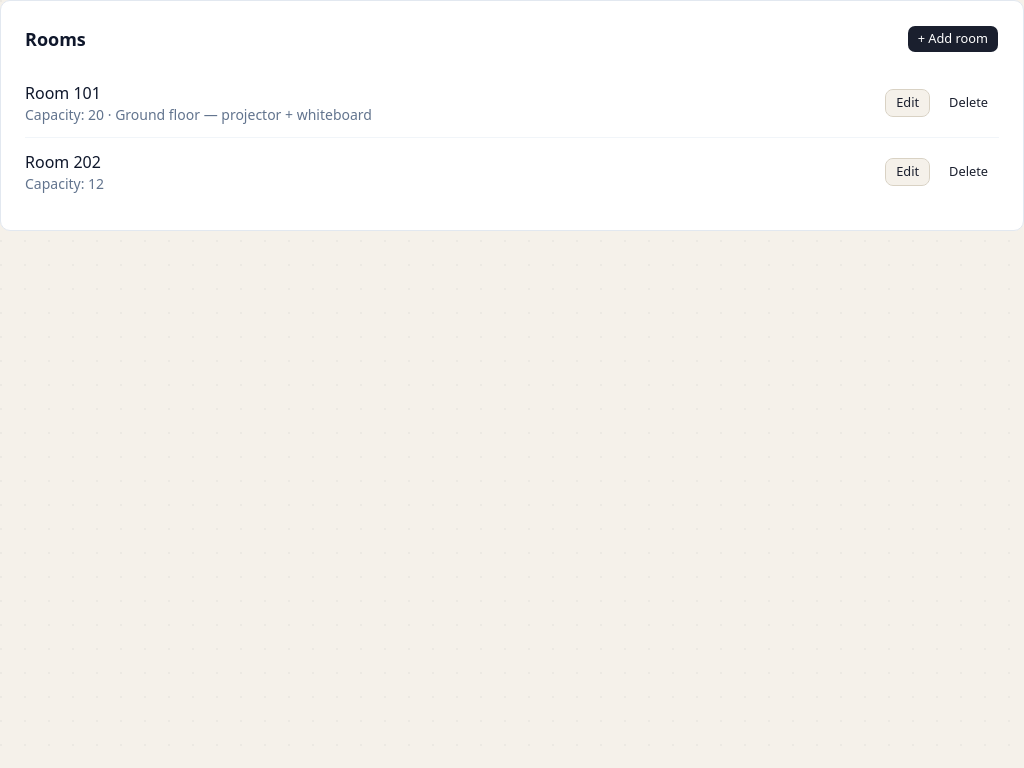
it: RoomsTab — AC5 CRUD via shadcn Dialog › delete room opens AlertDialog with confirm + cancel
This screenshot has width=1024, height=768.
Click the button "Delete" in the row of "Room 101" at (969, 103), box [938,89,999,117]
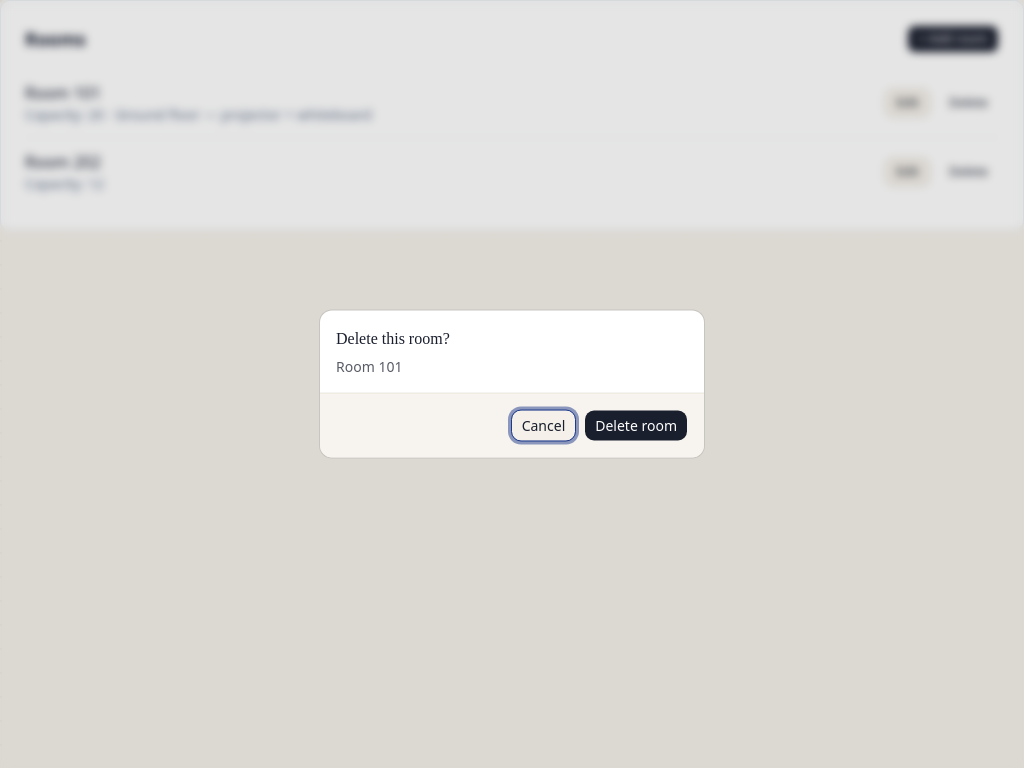
Expected: the button "Delete room" is shown, [584,410,688,442]
Expected: the button "Cancel" is shown, [511,410,576,442]
